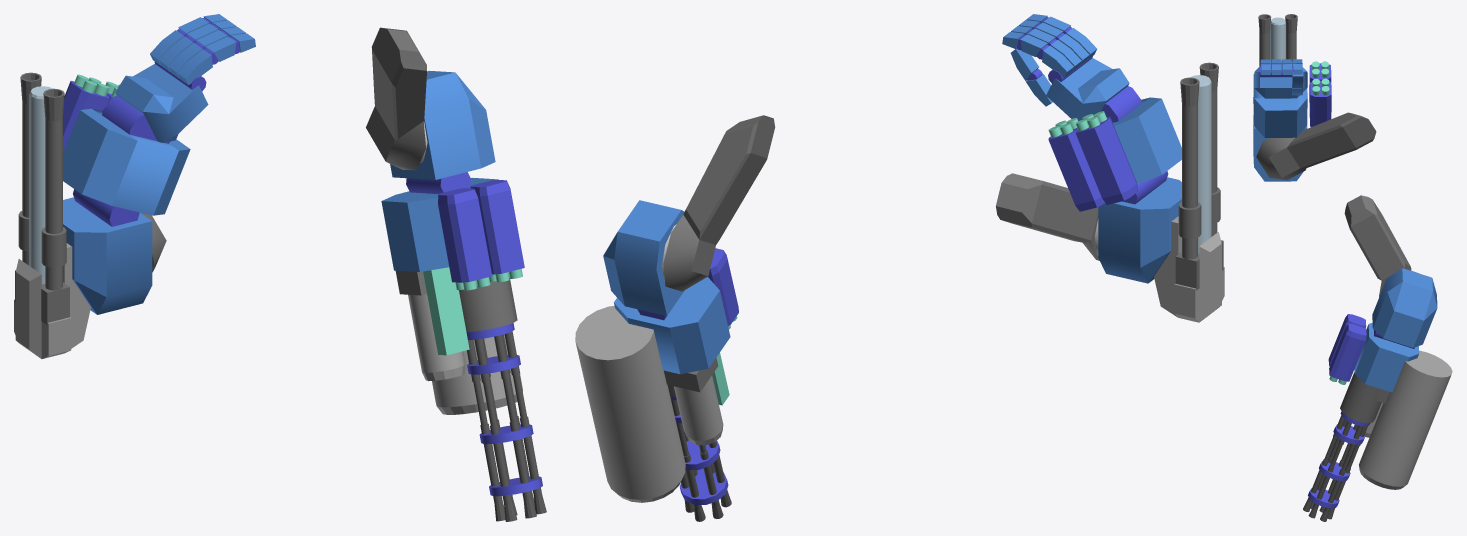
File: Mech_blue_arms.fbx
3 views of the same model, side by side, from view 1: azimuth 30°, elevation 25°; view 2: azimuth 150°, elevation 25°; view 3: azimuth 270°, elevation 25° (orthographic). The views are drawn at different scales.
Visible parts, largest first — view 1: La2, Ra2, Ra3, Ra05, La1; view 2: La2, Ra2, Ra3, La1, Ra05, Ra1; view 3: La2, Ra1, Ra3, La1, Ra2, Ra05.
Part boxes in pixels (left/top/right/bottom): La2: left=381, top=70, right=546, bottom=521; Ra2: left=14, top=72, right=152, bottom=358; Ra3: left=63, top=74, right=190, bottom=215; Ra05: left=115, top=14, right=255, bottom=142; La1: left=366, top=27, right=427, bottom=170; La2: left=575, top=200, right=738, bottom=521; Ra2: left=1098, top=62, right=1224, bottom=322; Ra3: left=1048, top=86, right=1181, bottom=211; La1: left=662, top=115, right=775, bottom=291; Ra05: left=1002, top=14, right=1129, bottom=121; Ra1: left=996, top=173, right=1099, bottom=260; La2: left=1303, top=268, right=1452, bottom=521; Ra1: left=1256, top=112, right=1376, bottom=179; Ra3: left=1253, top=61, right=1331, bottom=137; La1: left=1344, top=195, right=1415, bottom=296; Ra2: left=1253, top=14, right=1307, bottom=181; Ra05: left=1254, top=59, right=1307, bottom=98.
Size of the model in its own units: 1.92 by 1.88 by 0.9495.
